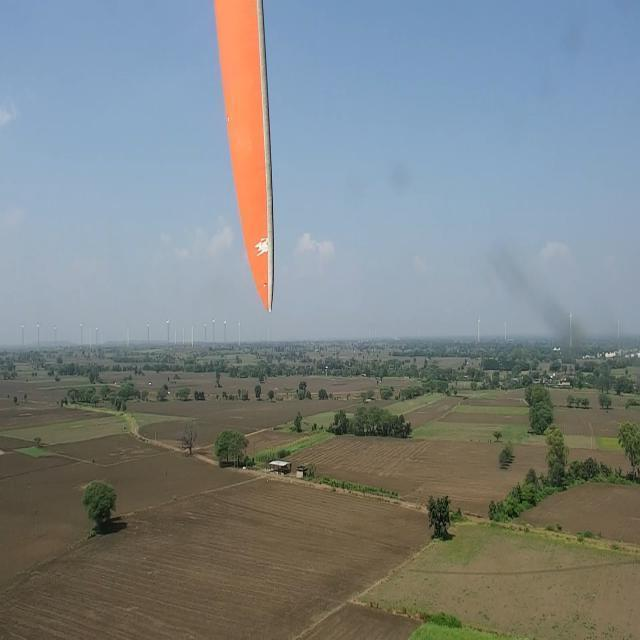PU-tape: (252, 226, 274, 272)
